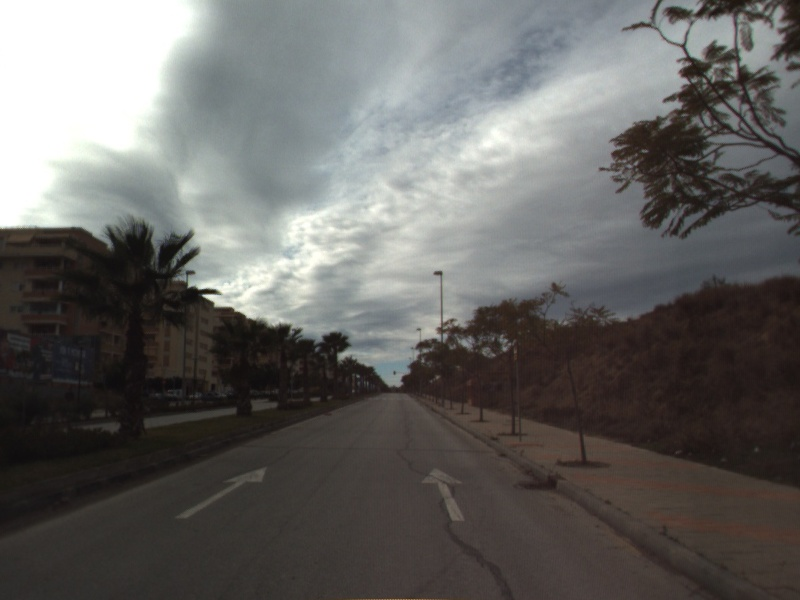STRAIGHT: (173, 464, 269, 521), (419, 465, 468, 523)
